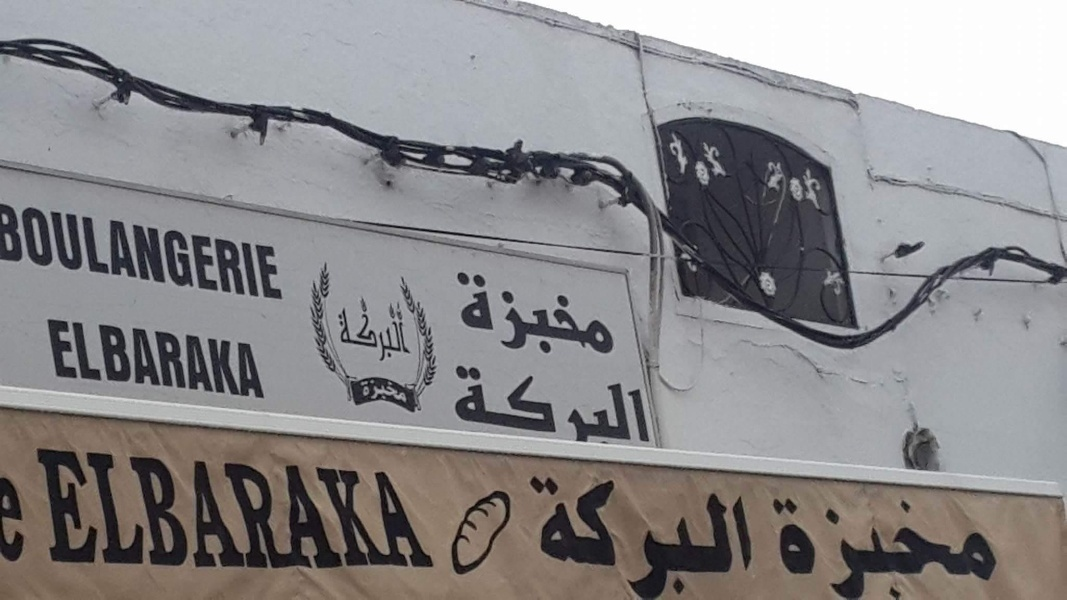text: (33, 444, 48, 570), (49, 444, 64, 570), (65, 444, 80, 570), (81, 444, 96, 570), (97, 444, 112, 570), (113, 444, 128, 570), (129, 444, 144, 570), (145, 444, 160, 570), (161, 444, 176, 570), (177, 444, 192, 570), (193, 444, 208, 570), (209, 444, 224, 570), (225, 444, 240, 570), (241, 444, 256, 570), (257, 444, 272, 570), (273, 444, 288, 570), (289, 444, 304, 570), (305, 444, 320, 570), (321, 444, 336, 570), (337, 444, 352, 570), (353, 444, 368, 570), (369, 444, 384, 570), (385, 444, 400, 570), (401, 444, 416, 570), (417, 444, 432, 570), (529, 475, 544, 599), (545, 475, 560, 599), (561, 475, 576, 599), (577, 475, 592, 599), (593, 475, 608, 599), (609, 475, 624, 599), (625, 475, 640, 599), (641, 475, 656, 599), (657, 475, 672, 599), (673, 475, 688, 599), (689, 475, 704, 599), (705, 475, 720, 599), (721, 475, 736, 599), (737, 475, 752, 599), (785, 497, 800, 600), (801, 497, 816, 600), (817, 497, 832, 600), (833, 497, 848, 600), (849, 497, 864, 600), (865, 497, 880, 600), (881, 497, 896, 600), (897, 497, 912, 600), (913, 497, 928, 600), (929, 497, 944, 600), (945, 497, 960, 600), (961, 497, 976, 600), (977, 497, 992, 600), (17, 201, 32, 302), (33, 201, 48, 302), (49, 201, 64, 302), (65, 201, 80, 302), (81, 201, 96, 302), (97, 201, 112, 302), (113, 201, 128, 302), (129, 201, 144, 302), (145, 201, 160, 302), (161, 201, 176, 302), (177, 201, 192, 302), (193, 201, 208, 302), (209, 201, 224, 302), (225, 201, 240, 302), (241, 201, 256, 302), (257, 201, 272, 302), (2, 461, 16, 568), (17, 461, 31, 568), (465, 269, 480, 364), (481, 269, 496, 364), (497, 269, 512, 364), (513, 269, 528, 364), (529, 269, 544, 364), (545, 269, 560, 364), (561, 269, 576, 364), (577, 269, 592, 364), (593, 269, 608, 364), (2, 201, 16, 302), (771, 497, 784, 600), (465, 366, 480, 453), (481, 366, 496, 453), (497, 366, 512, 453), (513, 366, 528, 453), (529, 366, 544, 453), (545, 366, 560, 453), (561, 366, 576, 453), (577, 366, 592, 453), (593, 366, 608, 453), (609, 366, 624, 453), (625, 366, 640, 453), (49, 316, 64, 400), (65, 316, 80, 400), (81, 316, 96, 400), (97, 316, 112, 400), (113, 316, 128, 400), (129, 316, 144, 400), (145, 316, 160, 400), (161, 316, 176, 400), (177, 316, 192, 400), (193, 316, 208, 400), (209, 316, 224, 400), (225, 316, 240, 400), (241, 316, 256, 400), (753, 475, 763, 599), (641, 366, 655, 453), (451, 366, 464, 453), (273, 201, 284, 302), (337, 305, 352, 369), (353, 305, 368, 369), (369, 305, 384, 369), (385, 305, 400, 369), (257, 316, 267, 400), (401, 305, 412, 369), (457, 269, 464, 364), (433, 444, 438, 570), (993, 497, 999, 600), (609, 269, 615, 364), (369, 377, 384, 406), (385, 377, 400, 406), (359, 377, 368, 406), (45, 316, 48, 400), (401, 377, 409, 406)
